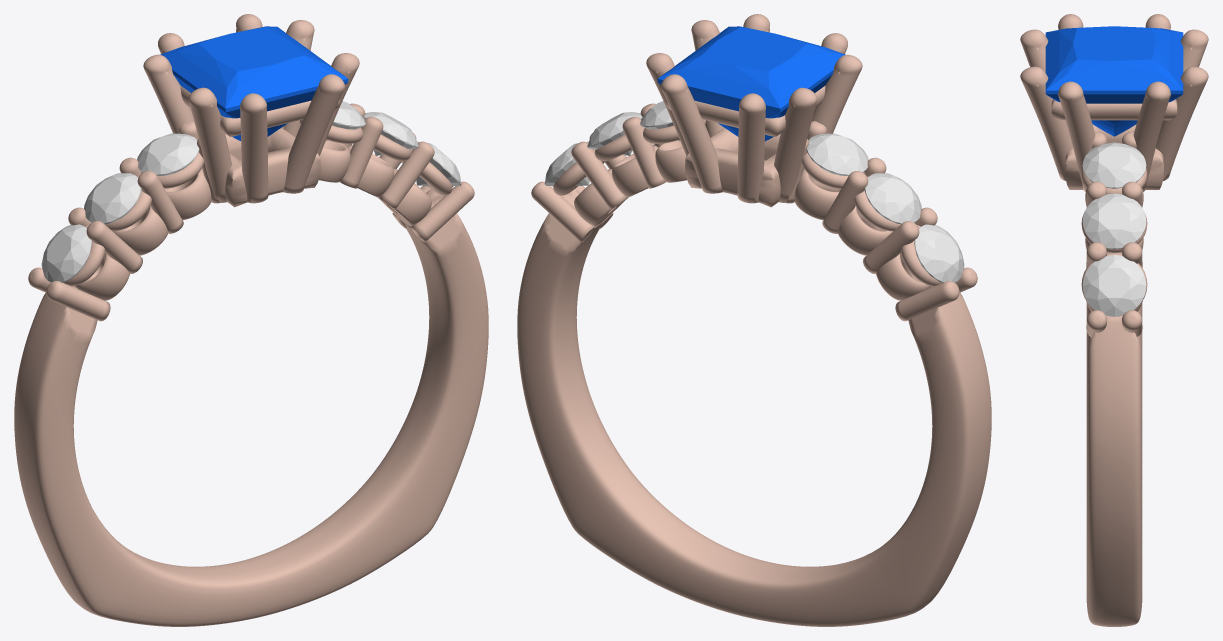
The model's file is bluesapphire-princess-rosegold-8prong-europeanshank-7stone.glb.
The picture shows the model from 3 angles, left to right: view 1: azimuth 30°, elevation 25°; view 2: azimuth 150°, elevation 25°; view 3: azimuth 270°, elevation 25°; orthographic projection. The views are drawn at different scales.
Parts seen in each view (by area): view 1: metal, stone, side, side.001, side.002, side.004, side.005; view 2: metal, stone, side, side.001, side.002, side.004, side.005; view 3: metal, stone, side.005, side.004, side.003.
Part boxes in pixels (x1,y1,x2,y2): metal: (14, 14, 488, 626); stone: (160, 26, 348, 140); side: (41, 224, 91, 282); side.001: (84, 173, 141, 224); side.002: (137, 133, 199, 175); side.004: (363, 112, 418, 155); side.005: (416, 141, 461, 185); metal: (517, 14, 991, 626); stone: (657, 26, 845, 140); side: (914, 224, 964, 282); side.001: (864, 173, 921, 224); side.002: (806, 133, 868, 175); side.004: (587, 112, 642, 155); side.005: (544, 141, 589, 185); metal: (1020, 14, 1208, 626); stone: (1045, 26, 1183, 136); side.005: (1082, 255, 1146, 316); side.004: (1082, 193, 1146, 249); side.003: (1082, 142, 1146, 188).
Bounding box in the file's own units: 20.11 × 23.65 × 7.42.
